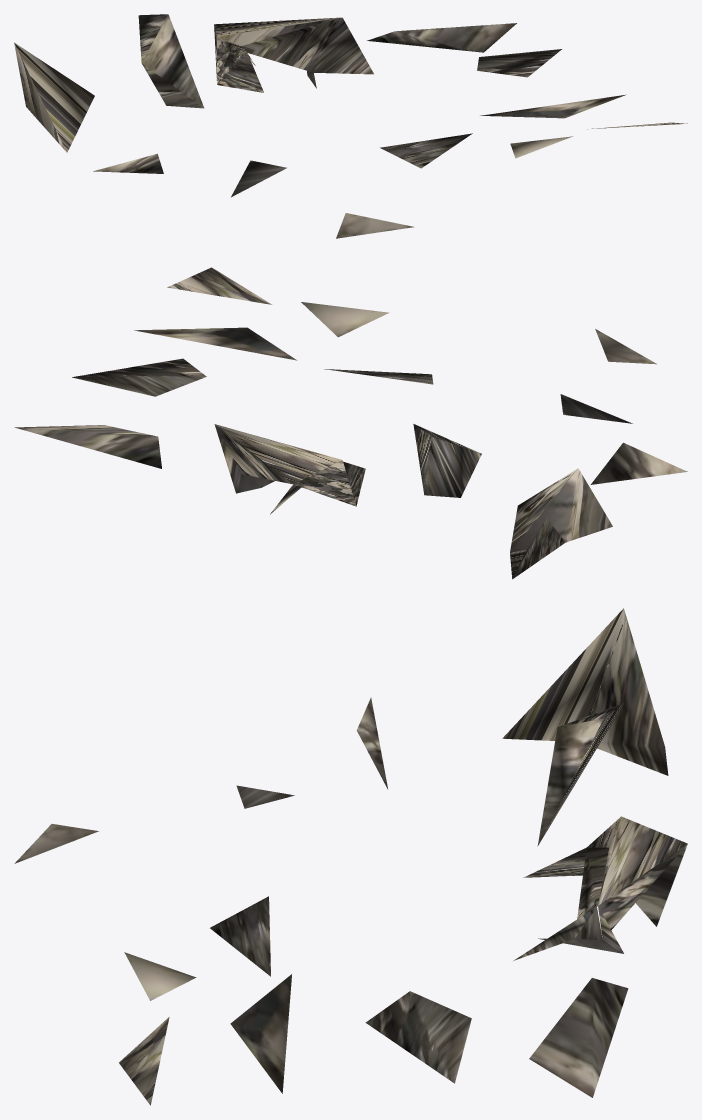
File: Rock_Formation_Collec.glb
3 renders of one model, top to bottom at view 1: azimuth 30°, elevation 25°; view 2: azimuth 150°, elevation 25°; view 3: azimuth 270°, elevation 25°, orthographic. The views are drawn at different scales.
Parts seen in each view (by area): view 1: Rock_Formation_Collec; view 2: Rock_Formation_Collec; view 3: Rock_Formation_Collec.
Part boxes in pixels (x1,y1,x2,y2): Rock_Formation_Collec: (14, 14, 687, 238); Rock_Formation_Collec: (14, 267, 687, 579); Rock_Formation_Collec: (14, 608, 687, 1105).
Size of the model in its own units: 1.88 by 0.3248 by 1.43.
1 material, 1 textured.
